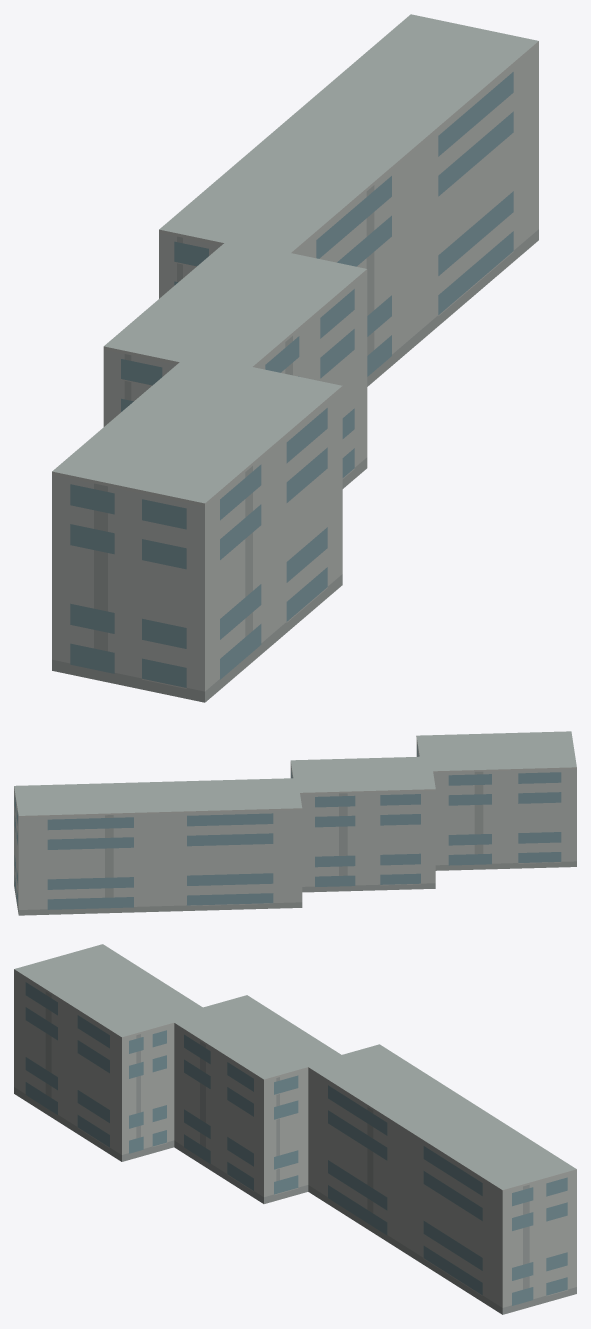
The model's file is residential-83ff9f8e-a5ec-47b8-bb83-a47ed62f5587.glb.
3 views of the same model, one above another, from view 1: azimuth 30°, elevation 25°; view 2: azimuth 150°, elevation 25°; view 3: azimuth 270°, elevation 25° (orthographic). The views are drawn at different scales.
Visible parts, largest first — view 1: residential-83ff9f8e-a5ec-47b8-bb83-a47ed62f5587.tmp; view 2: residential-83ff9f8e-a5ec-47b8-bb83-a47ed62f5587.tmp; view 3: residential-83ff9f8e-a5ec-47b8-bb83-a47ed62f5587.tmp.
Boxes of the visible parts, x1,y1,x2,y2 form: residential-83ff9f8e-a5ec-47b8-bb83-a47ed62f5587.tmp: [52, 14, 538, 702]; residential-83ff9f8e-a5ec-47b8-bb83-a47ed62f5587.tmp: [14, 731, 576, 915]; residential-83ff9f8e-a5ec-47b8-bb83-a47ed62f5587.tmp: [14, 944, 576, 1314].
Size of the model in its own units: 64.6 by 15.25 by 62.42.
